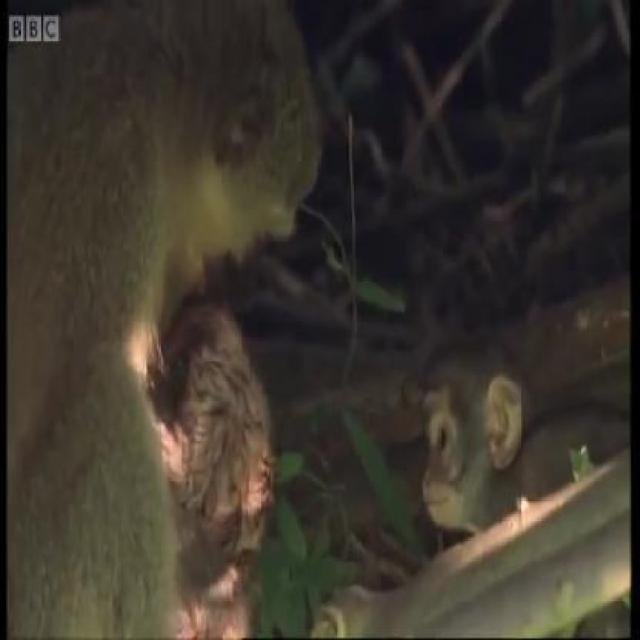Monkey: (400, 264, 638, 638)
